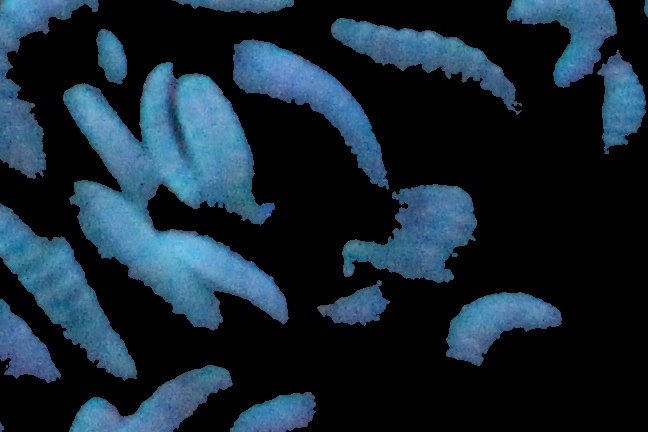larvae: (230, 40, 394, 188), (1, 202, 137, 377), (1, 1, 114, 193), (73, 184, 224, 327), (329, 14, 524, 119), (175, 71, 273, 220), (161, 225, 290, 322), (438, 291, 563, 389), (64, 84, 159, 200), (503, 1, 619, 88), (141, 62, 202, 206), (592, 46, 648, 154)
